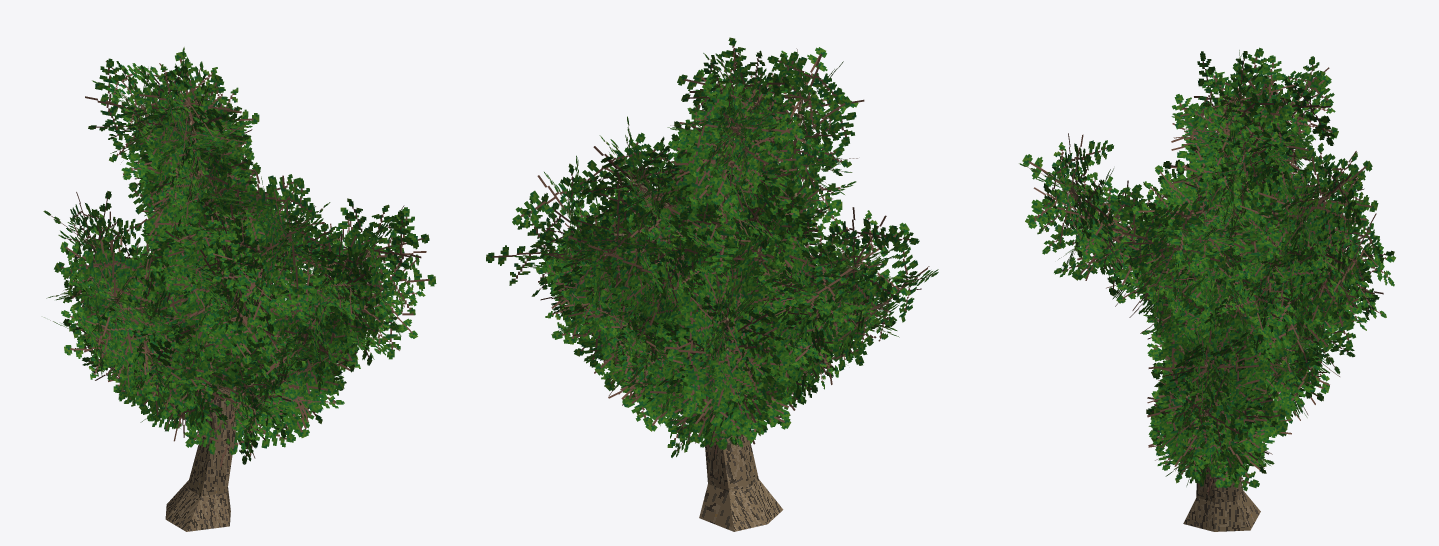
The model's file is Tree.gltf.
The picture shows the model from 3 angles, left to right: view 1: azimuth 30°, elevation 25°; view 2: azimuth 150°, elevation 25°; view 3: azimuth 270°, elevation 25°; orthographic projection. The views are drawn at different scales.
Parts seen in each view (by area): view 1: TreeLeaves; view 2: TreeLeaves; view 3: TreeLeaves.
Boxes of the visible parts, left/top/right/bottom form: TreeLeaves: left=43, top=47, right=436, bottom=531; TreeLeaves: left=486, top=37, right=938, bottom=531; TreeLeaves: left=1019, top=47, right=1395, bottom=531.
Size of the model in its own units: 6.95 by 7.7 by 6.23.
Materials: 2 (2 with a texture image).
